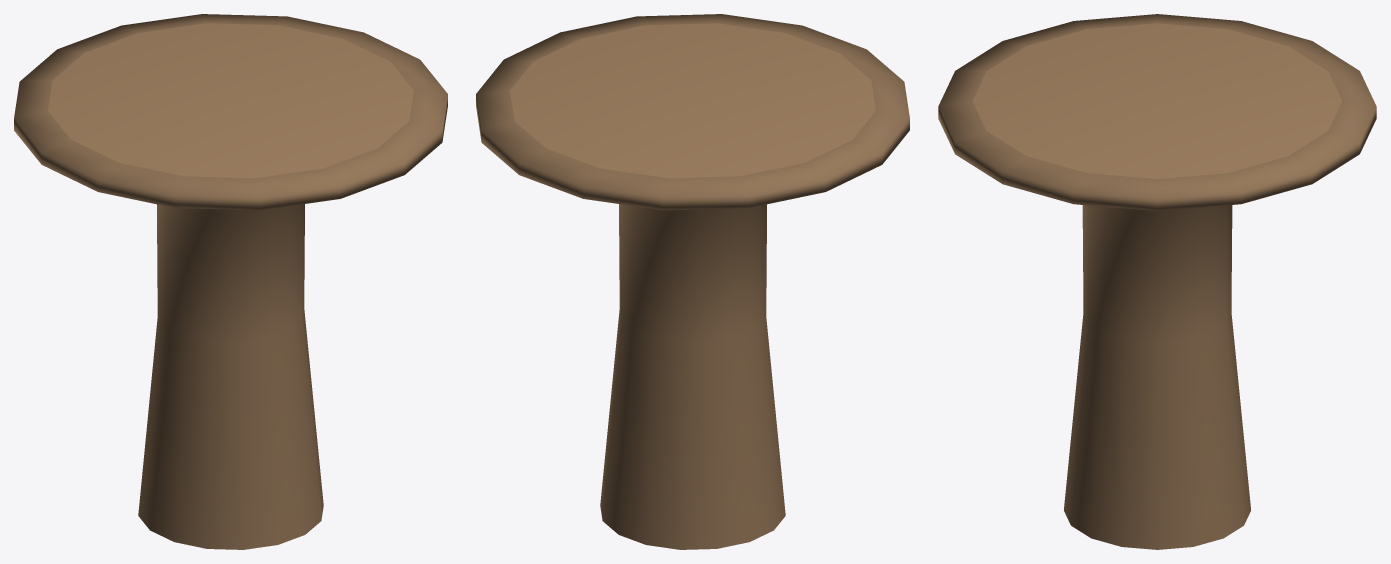
The model's file is WoodTable.fbx.
3 renders of one model, left to right at view 1: azimuth 30°, elevation 25°; view 2: azimuth 150°, elevation 25°; view 3: azimuth 270°, elevation 25°, orthographic.
Visible parts, largest first — view 1: WoodTable; view 2: WoodTable; view 3: WoodTable.
Boxes of the visible parts, box(x1,y1,x2,y2) form: WoodTable: box(14, 14, 447, 549); WoodTable: box(476, 14, 909, 549); WoodTable: box(938, 14, 1376, 549).
Bounding box in the file's own units: 187 × 194 × 188.
